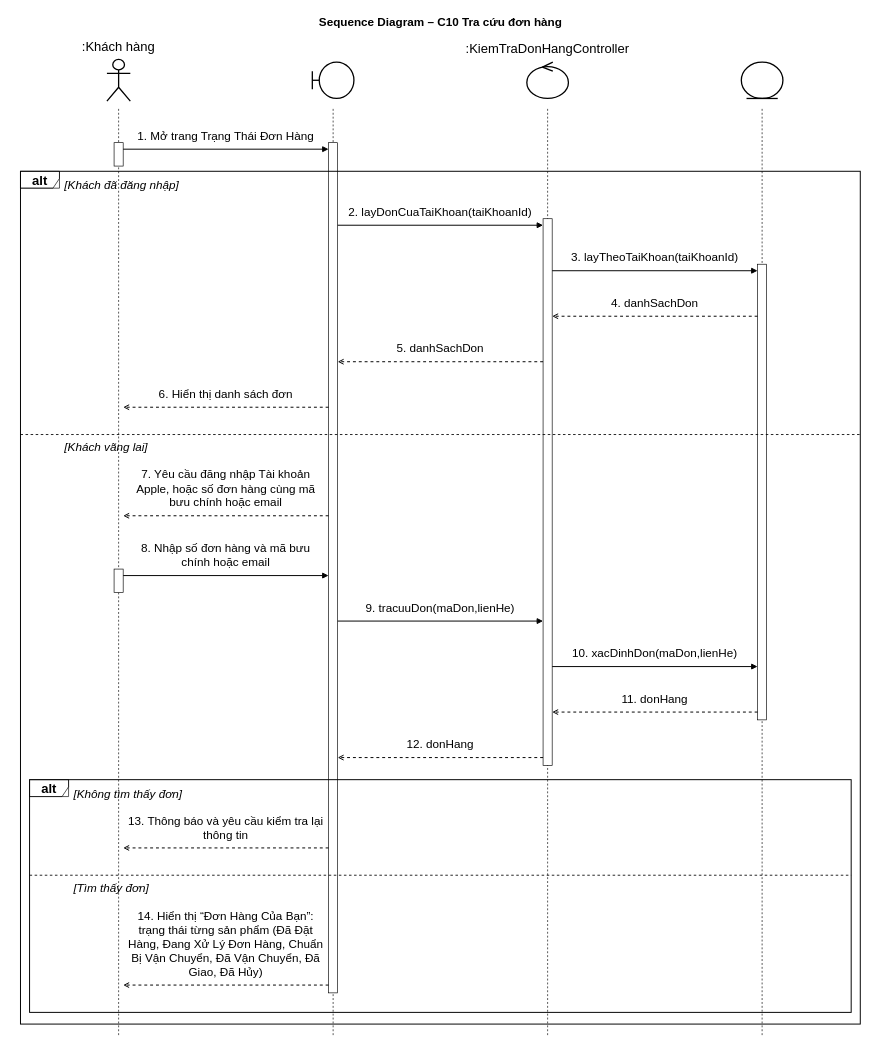
Image size: 880x1049. Some labels were removed from this diagram. The shapes that lost their labels are listed below. From the top down, each one's centre as x and y in pixels, then its label:
At pixel 332 80: ":KiemTraDonHangPage".
At pixel 761 80: ":DonHang".
